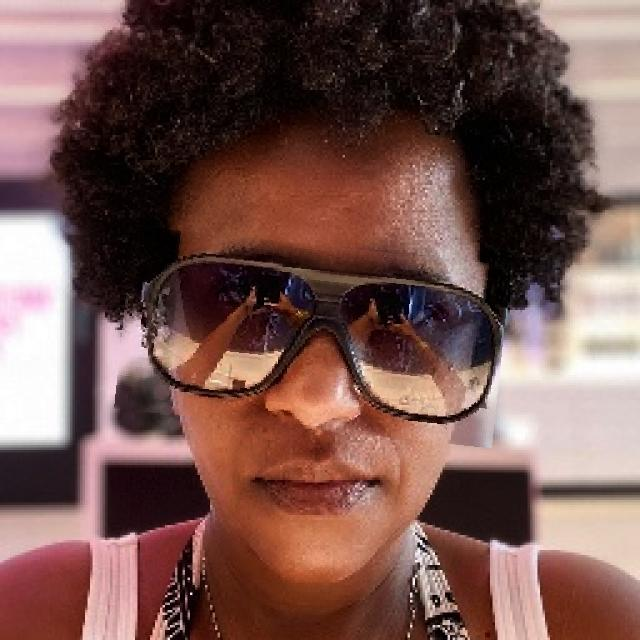glasses: (118, 236, 507, 438)
